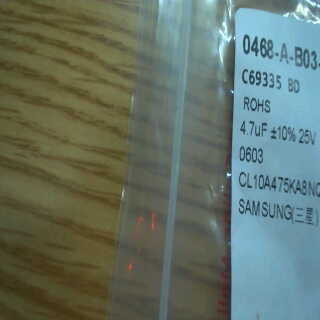4.7uF: (239, 118, 271, 139)
